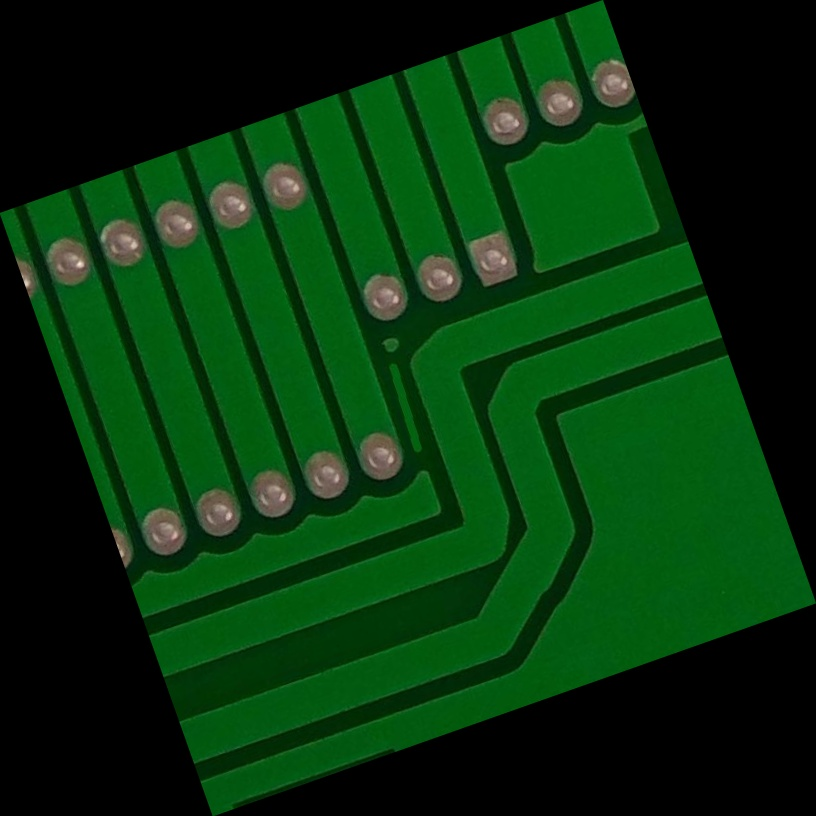spurious_copper: (374, 353, 442, 463)
